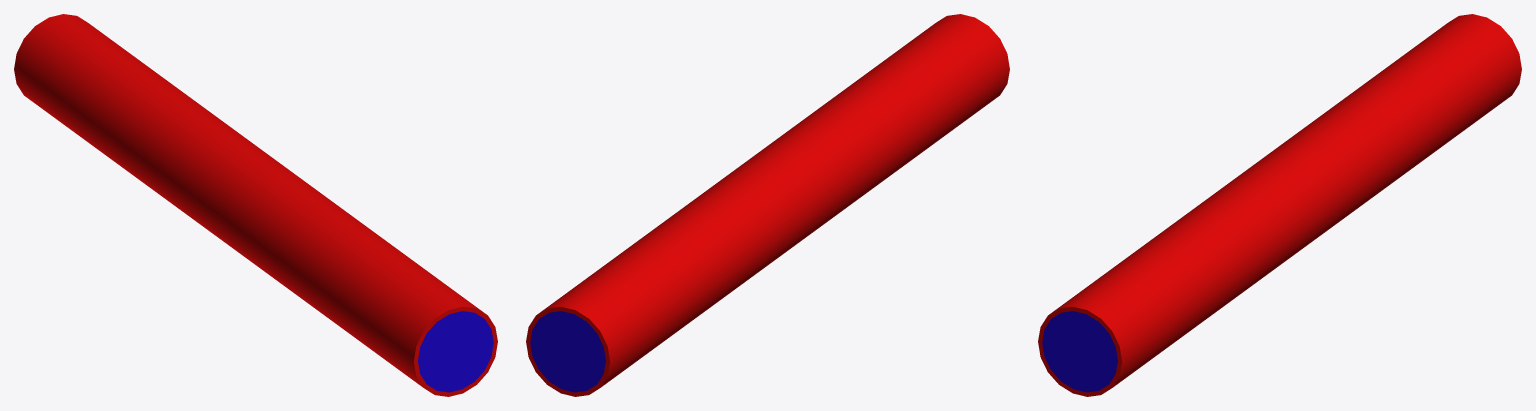
File: Buche.FBX
The picture shows the model from 3 angles, left to right: view 1: azimuth 30°, elevation 25°; view 2: azimuth 150°, elevation 25°; view 3: azimuth 330°, elevation 25°; orthographic projection.
Parts seen in each view (by area): view 1: Buche001; view 2: Buche001; view 3: Buche001.
Part boxes in pixels (x1,y1,x2,y2): Buche001: [14, 14, 497, 396]; Buche001: [526, 14, 1009, 396]; Buche001: [1038, 14, 1521, 396].
Size of the model in its own units: 17.08 by 16.82 by 140.
